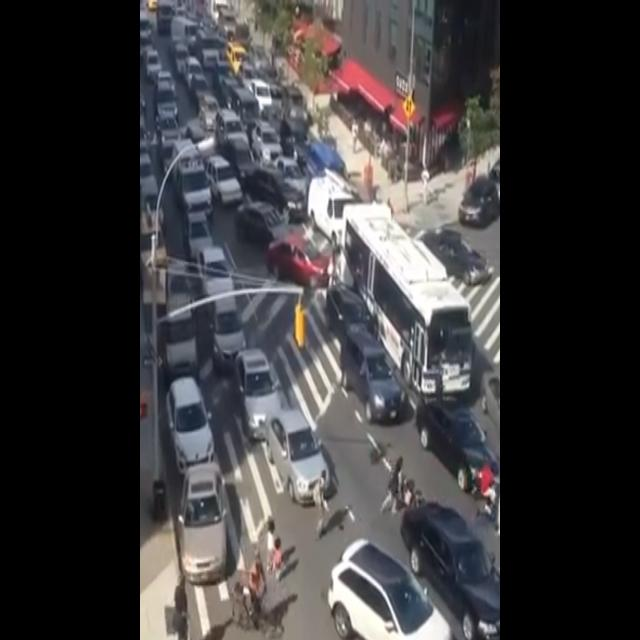Ambulance: (172, 134, 214, 219)
